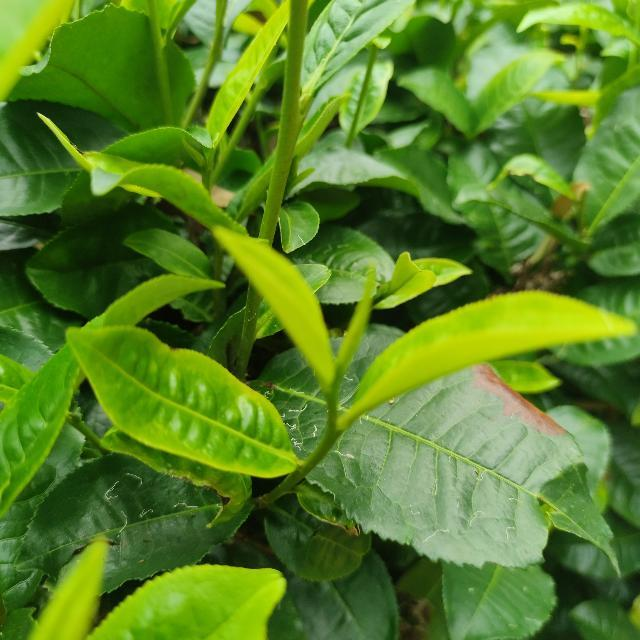Stem: (327, 424, 338, 439)
